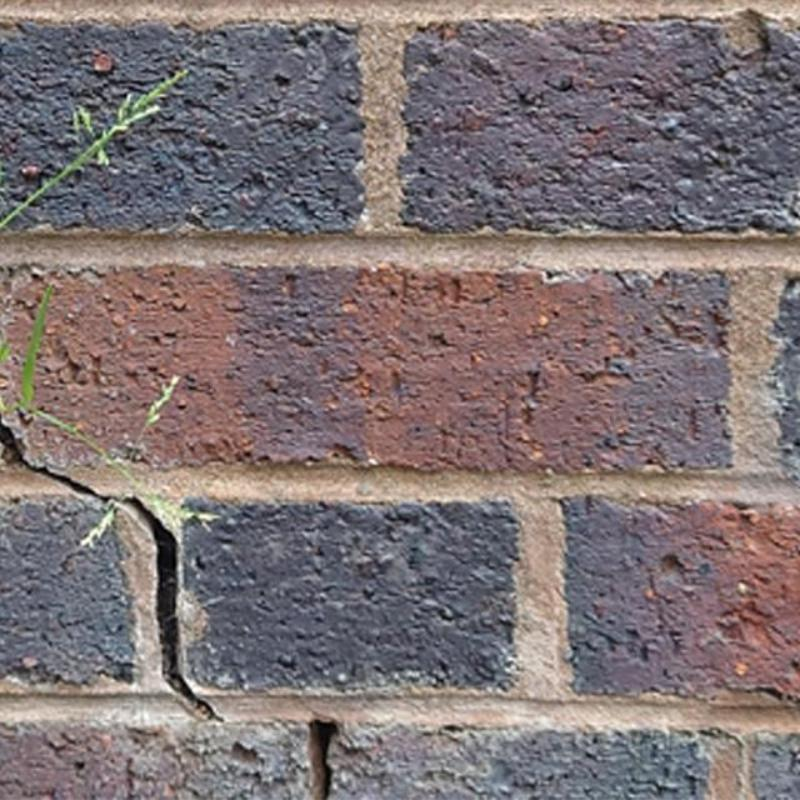crack: (1, 422, 217, 718), (308, 720, 338, 800)
